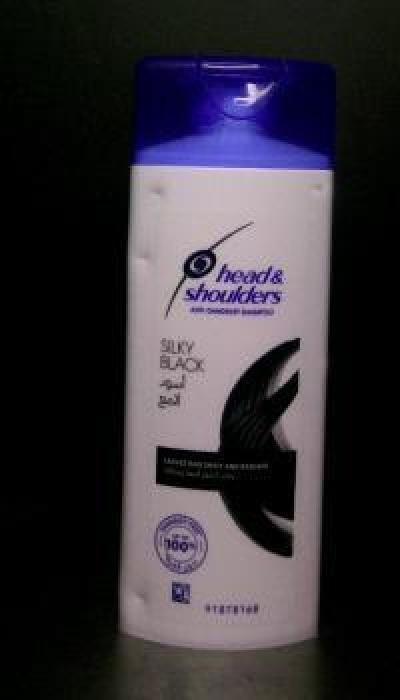dent_unacc: (289, 171, 335, 213), (120, 576, 162, 618), (138, 170, 174, 212), (129, 238, 161, 284)
